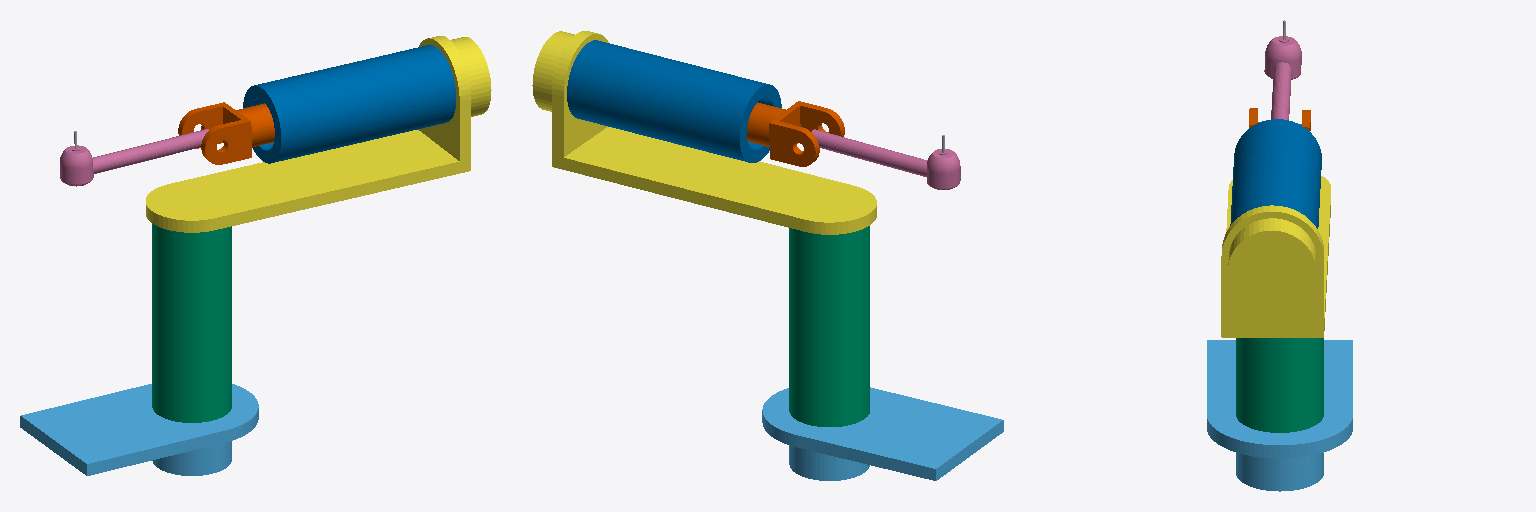
URDF robot description (dentobot):
<?xml version='1.0' encoding='utf-8'?>
<robot name="dentobot">
    <!-- Integration-only massless root: KDL cannot retain inertia on a root link. -->
    <!-- Developer-selected draft zero pose recorded 2026-08-14. Joint-origin
         rotations below absorb the photographed J1/J3/J5/J6 offsets. -->
    <link name="base_link" />
    <link name="link-1">
        <inertial>
            <origin xyz="-0.013041482178924977 0.006901703795223388 0.0" rpy="0.0 0.0 0.0" />
            <mass value="0.2395161677577307" />
            <inertia ixx="4.457600053054018e-05" iyy="0.00014649969208489633" izz="0.00012060777865666259" ixy="-1.374936371970862e-05" iyz="-5.5777604757167865e-21" ixz="-4.462208380573429e-20" />
        </inertial>
        <visual name="link-1_visual">
            <origin xyz="0.0 0.0 0.0" rpy="0.0 0.0 0.0" />
            <geometry>
                <mesh filename="package://dentobot_description/meshes/link-1.stl" scale="0.001 0.001 0.001" />
            </geometry>
        </visual>
        <collision name="link-1_collision">
            <origin xyz="0.0 0.0 0.0" rpy="0.0 0.0 0.0" />
            <geometry>
                <mesh filename="package://dentobot_description/meshes/link-1.stl" scale="0.001 0.001 0.001" />
            </geometry>
        </collision>
    </link>
    <link name="link-2">
        <inertial>
            <origin xyz="1.2434497875801754e-16 -6.217248937900877e-17 0.03821428571428576" rpy="0.0 -0.0 0.0" />
            <mass value="0.2589457744721385" />
            <inertia ixx="0.0001684138398001815" iyy="0.00016841383980018075" izz="4.0691478845617015e-05" ixy="-7.105427357601022e-19" iyz="-4.375876964894689e-19" ixz="1.2304467608589879e-18" />
        </inertial>
        <visual name="link-2_visual">
            <origin xyz="-0.1340456550807455 0.06731836565138669 8.207929121712259e-18" rpy="-2.0362061855242715 -1.5707963267948966 0" />
            <geometry>
                <mesh filename="package://dentobot_description/meshes/link-2.stl" scale="0.001 0.001 0.001" />
            </geometry>
        </visual>
        <collision name="link-2_collision">
            <origin xyz="-0.1340456550807455 0.06731836565138669 8.207929121712259e-18" rpy="-2.0362061855242715 -1.5707963267948966 0" />
            <geometry>
                <mesh filename="package://dentobot_description/meshes/link-2.stl" scale="0.001 0.001 0.001" />
            </geometry>
        </collision>
    </link>
    <link name="link-3">
        <inertial>
            <origin xyz="-0.018435581607396664 -0.06961656589240392 -0.036709293065027536" rpy="6.842277657836021e-49 -6.842277657836022e-49 0.0" />
            <mass value="0.4649018982845158" />
            <inertia ixx="0.0013031223678909433" iyy="0.0010854158925765953" izz="0.0006898751232736183" ixy="-0.00023132672003454822" iyz="-0.0004606223194011877" ixz="-0.00041184761260775057" />
        </inertial>
        <visual name="link-3_visual">
            <origin xyz="-0.1252668984012284 -0.07999999999999531 -0.026612105608805493" rpy="1.0156323105934312e-14 0.4654098587293747 -6.211818413415448e-17" />
            <geometry>
                <mesh filename="package://dentobot_description/meshes/link-3.stl" scale="0.001 0.001 0.001" />
            </geometry>
        </visual>
        <collision name="link-3_collision">
            <origin xyz="-0.1252668984012284 -0.07999999999999531 -0.026612105608805493" rpy="1.0156323105934312e-14 0.4654098587293747 -6.211818413415448e-17" />
            <geometry>
                <mesh filename="package://dentobot_description/meshes/link-3.stl" scale="0.001 0.001 0.001" />
            </geometry>
        </collision>
    </link>
    <link name="link-4">
        <inertial>
            <origin xyz="-0.031927753465877604 -6.8567374000849666e-15 -0.01603427299348781" rpy="0.0 -0.0 0.0" />
            <mass value="0.24353233551546366" />
            <inertia ixx="5.906278844472482e-05" iyy="0.0001418351806709785" izz="0.00012095918724142242" ixy="6.93889390390723e-18" iyz="-6.505213034913028e-18" ixz="-4.1568689133350515e-05" />
        </inertial>
        <visual name="link-4_visual">
            <origin xyz="-1.4434824713305261e-09 -6.501466032204917e-15 -4.044033978800599e-09" rpy="-1.062616265014733 0.3967589114181319 -1.3587991963146502" />
            <geometry>
                <mesh filename="package://dentobot_description/meshes/link-4.stl" scale="0.001 0.001 0.001" />
            </geometry>
        </visual>
        <collision name="link-4_collision">
            <origin xyz="-1.4434824713305261e-09 -6.501466032204917e-15 -4.044033978800599e-09" rpy="-1.062616265014733 0.3967589114181319 -1.3587991963146502" />
            <geometry>
                <mesh filename="package://dentobot_description/meshes/link-4.stl" scale="0.001 0.001 0.001" />
            </geometry>
        </collision>
    </link>
    <link name="link-5">
        <inertial>
            <origin xyz="0.018953104625831423 5.790923296444817e-15 -0.009518341925041305" rpy="0.0 -3.0814879110195774e-33 8.552847072295026e-50" />
            <mass value="0.12052441013845744" />
            <inertia ixx="1.9513610631916208e-05" iyy="7.935288426350067e-05" izz="6.461844891668053e-05" ixy="-1.336711247352482e-07" iyz="-2.66168575341466e-07" ixz="3.029173001209464e-05" />
        </inertial>
        <visual name="link-5_visual">
            <origin xyz="0.010280070990326236 0.09016700244579441 0.04322656606990571" rpy="2.07897638857506 -0.39675891141813246 1.35879919631465" />
            <geometry>
                <mesh filename="package://dentobot_description/meshes/link-5.stl" scale="0.001 0.001 0.001" />
            </geometry>
        </visual>
        <collision name="link-5_collision">
            <origin xyz="0.010280070990326236 0.09016700244579441 0.04322656606990571" rpy="2.07897638857506 -0.39675891141813246 1.35879919631465" />
            <geometry>
                <mesh filename="package://dentobot_description/meshes/link-5.stl" scale="0.001 0.001 0.001" />
            </geometry>
        </collision>
    </link>
    <link name="pneumatic_spindle-Copy">
        <inertial>
            <origin xyz="0.021712572259351567 0.006446017878089912 0.03453740536453646" rpy="0.0 -0.0 0.0" />
            <mass value="0.023393660425798164" />
            <inertia ixx="6.707072193479277e-06" iyy="8.601798815400689e-06" izz="2.1772921384412757e-06" ixy="7.185689963891221e-08" iyz="9.736779008431328e-08" ixz="-3.458550056469578e-06" />
        </inertial>
        <visual name="pneumatic_spindle-Copy_visual">
            <origin xyz="0.05494618457295404 -0.008269433599944023 0.032342388899358164" rpy="0.44718022829377824 1.1053864680655217 3.141592653589792" />
            <geometry>
                <mesh filename="package://dentobot_description/meshes/pneumatic_spindle-Copy.stl" scale="0.001 0.001 0.001" />
            </geometry>
        </visual>
        <collision name="pneumatic_spindle-Copy_collision">
            <origin xyz="0.05494618457295404 -0.008269433599944023 0.032342388899358164" rpy="0.44718022829377824 1.1053864680655217 3.141592653589792" />
            <geometry>
                <mesh filename="package://dentobot_description/meshes/pneumatic_spindle-Copy.stl" scale="0.001 0.001 0.001" />
            </geometry>
        </collision>
    </link>
    <link name="burr">
        <!-- Research simulation variant: 1 mm diameter, original 7 mm axial
             geometry/TCP retained. Original CAD mesh remains burr.stl.
             Inertia is historical CAD data, not validated for this variant. -->
        <inertial>
            <origin xyz="0.0014163069015514563 0.001513483224059975 -0.002820185245171638" rpy="0.0 -0.0 0.0" />
            <mass value="0.0001726305163147505" />
            <inertia ixx="6.397043161606286e-10" iyy="6.243240996582206e-10" izz="3.1841797258781436e-10" ixy="-1.1579628751064346e-10" iyz="2.305758475427195e-10" ixz="2.157710690507842e-10" />
        </inertial>
        <visual name="burr_visual">
            <origin xyz="0.0670228255526996 -3.4113875102548262e-09 0.033659179726168546" rpy="-2.6944124252960098 -0.46540985872937485 -2.4763081801936323e-17" />
            <geometry>
                <mesh filename="package://dentobot_description/meshes/burr_simulation_1mm.stl" scale="0.001 0.001 0.001" />
            </geometry>
        </visual>
        <collision name="burr_collision">
            <origin xyz="0.0670228255526996 -3.4113875102548262e-09 0.033659179726168546" rpy="-2.6944124252960098 -0.46540985872937485 -2.4763081801936323e-17" />
            <geometry>
                <mesh filename="package://dentobot_description/meshes/burr_simulation_1mm.stl" scale="0.001 0.001 0.001" />
            </geometry>
        </collision>
    </link>
    <joint name="base_link_to_link-1" type="fixed">
        <!-- Put link-1's thin Y-normal mounting plane parallel to RViz XY and
             orient the articulated chain above the grid. -->
        <origin xyz="0.0 0.0 0.0" rpy="-1.5707963267948966 0.0 0.0" />
        <parent link="base_link" />
        <child link="link-1" />
    </joint>
    <joint name="link-1_Revolute-1" type="revolute">
        <origin xyz="0.0 0.0 0.0" rpy="1.570796326794897 -0.4429645641561608 2.90490637318374e-17" />
        <parent link="link-1" />
        <child link="link-2" />
        <axis xyz="0.0 0.0 1.0" />
        <limit lower="-0.44296456415616081" upper="5.8402204358438388" effort="1000000" velocity="1000000" />
    </joint>
    <joint name="link-2_Slider-2" type="prismatic">
        <!-- J2 zero is the mechanically extended/home end of travel.  The
             former description placed zero at the opposite end.  Moving the
             joint origin to the former q=0.08 pose and reversing the axis
             preserves every physical pose while making q_new=0.08-q_old. -->
        <origin xyz="0.0 0.0 0.0" rpy="-1.5707963267948966 -0.0 1.5707963267948966" />
        <parent link="link-2" />
        <child link="link-3" />
        <axis xyz="0.0 -0.9999999999999999 0.0" />
        <limit lower="0.0" upper="0.08" effort="1000000" velocity="1000000" />
    </joint>
    <joint name="link-3_Revolute-3" type="revolute">
        <origin xyz="-0.047122859999999996 -0.11 -0.09383196" rpy="2.067357736975897 1.101119703255167 -2.067357736975897" />
        <parent link="link-3" />
        <child link="link-4" />
        <axis xyz="0.8936380000000003 -5.639648652959157e-30 0.44878900000000016" />
        <limit lower="-1.0901326507956584" upper="5.1930523492043417" effort="1000000" velocity="1000000" />
    </joint>
    <joint name="link-4_Slider-4" type="prismatic">
        <origin xyz="-0.06702282999999999 0.0 -0.03365918999999999" rpy="-3.141592653589793 2.7755575615628914e-17 5.551115123125784e-17" />
        <parent link="link-4" />
        <child link="link-5" />
        <axis xyz="-0.893638 -2.4694080114073816e-17 0.44878900000000005" />
        <limit lower="0.0" upper="0.075" effort="1000000" velocity="1000000" />
    </joint>
    <!-- Simulation contract: J5 is continuous.  The former finite interval
         [-1.08, 358.92] deg represented one full revolution but forced poses
         just below zero through an almost-complete positive turn. -->
    <joint name="link-5_Revolute-5" type="continuous">
        <origin xyz="-0.021752659999999997 -0.006762529999999991 0.007295090000000003" rpy="-2.933237124130466 -1.553411074346388 2.925952888262058" />
        <parent link="link-5" />
        <child link="pneumatic_spindle-Copy" />
        <axis xyz="-0.38643099999999997 -0.9016699999999997 0.194068" />
        <limit effort="1000000" velocity="1000000" />
    </joint>
    <joint name="pneumatic_spindle-Copy_Revolute-6" type="continuous">
        <origin xyz="0.035401760000000004 0.0029788100000000027 0.04568638" rpy="0.9502765943544816 1.0092142015761 -1.935369066862216" />
        <parent link="pneumatic_spindle-Copy" />
        <child link="burr" />
        <axis xyz="0.40465999999999996 0.432425 -0.805766" />
    </joint>
    <!-- The downstream branch is retained for visualisation/collision.  Its
         pose rotates with the pneumatic spindle and is never a planning TCP. -->
    <link name="dentobot_tool_tcp" />
    <joint name="burr_to_dentobot_tool_tcp" type="fixed">
        <origin xyz="0.0 0.0 0.0" rpy="-2.61089174 -0.36458195 -0.20627347" />
        <parent link="burr" />
        <child link="dentobot_tool_tcp" />
    </joint>
    <!-- Historical visual tip. It remains downstream of J6 for compatibility,
         but is not used by MoveIt or Step 6 planning. -->
    <link name="dentobot_drill_tip_provisional" />
    <joint name="dentobot_tool_tcp_to_drill_tip_provisional" type="fixed">
        <origin xyz="0.0 0.0 0.007" rpy="0.0 0.0 0.0" />
        <parent link="dentobot_tool_tcp" />
        <child link="dentobot_drill_tip_provisional" />
    </joint>
    <!-- Canonical non-spinning planning TCP. This is the same CAD burr-tip
         location evaluated at the reference spindle angle (J6=0), but is a
         fixed sibling of the spindle joint. Its physical +Z drilling axis is
         therefore independent of the air-rotor angle. The spinning burr branch
         above remains available to robot_state_publisher and collision models. -->
    <link name="dentobot_drill_tcp" />
    <joint name="pneumatic_spindle-Copy_to_dentobot_drill_tcp" type="fixed">
        <origin xyz="0.041042122156006 -0.000048165096147 0.042853759920214"
                rpy="-2.224555444403231 0.842809592516694 -2.582877942399306" />
        <parent link="pneumatic_spindle-Copy" />
        <child link="dentobot_drill_tcp" />
    </joint>
</robot>

--- Render facts (derived) ---
Views: 3 orthographic renders of the robot side by side, from view 1: azimuth 30°, elevation 25°; view 2: azimuth 150°, elevation 25°; view 3: azimuth 270°, elevation 25°.
Robot: dentobot — 11 links, 10 joints (2 revolute, 2 continuous, 2 prismatic, 4 fixed); root link base_link; default pose: every joint at zero.
Links seen in each view (by area): view 1: link-3, link-4, link-2, link-1, link-5, pneumatic_spindle-Copy; view 2: link-3, link-4, link-2, link-1, link-5, pneumatic_spindle-Copy; view 3: link-3, link-1, link-2, link-4, pneumatic_spindle-Copy.
Boxes of the visible links, box(x1,y1,x2,y2) form: link-3: box(146, 36, 491, 232); link-4: box(243, 45, 455, 163); link-2: box(152, 223, 231, 422); link-1: box(20, 384, 258, 475); link-5: box(178, 102, 274, 164); pneumatic_spindle-Copy: box(60, 129, 208, 186); link-3: box(532, 31, 876, 234); link-4: box(567, 40, 781, 162); link-2: box(789, 226, 869, 426); link-1: box(762, 387, 1003, 480); link-5: box(747, 101, 844, 166); pneumatic_spindle-Copy: box(812, 129, 960, 189); link-3: box(1221, 176, 1330, 337); link-1: box(1207, 340, 1352, 491); link-2: box(1236, 338, 1323, 432); link-4: box(1230, 119, 1321, 228); pneumatic_spindle-Copy: box(1264, 36, 1301, 119).
Bounding box of the posed robot: 0.1803 × 0.05 × 0.1495 m (x, y, z).
7 mesh visuals loaded from 7 distinct referenced files (7 binary STL).
